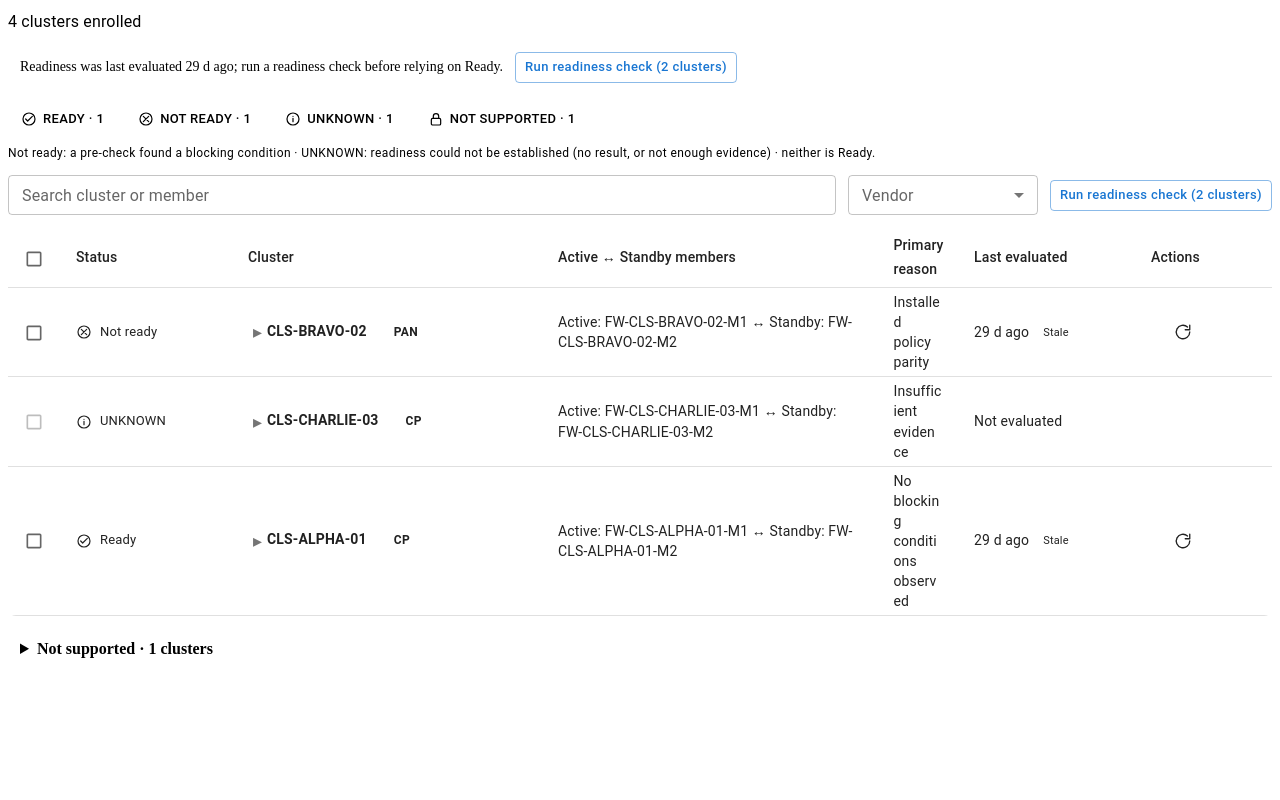
Test case: collapses unsupported vendors with no run actions and opens them via their filter
Click the button with aria-label "Not supported: 1 units": coordinates (502, 119) [415,103,588,136]
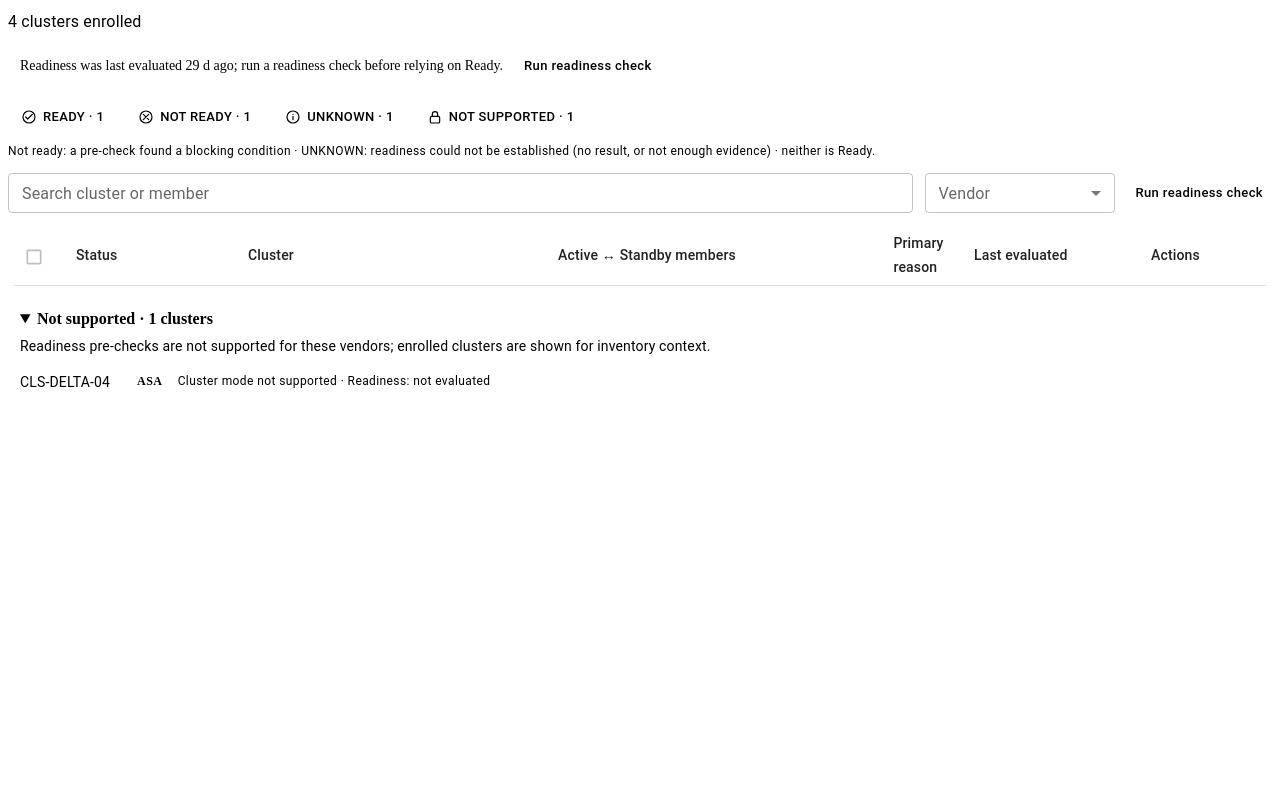
Expected: the text "CLS-DELTA-04" is shown, [20,372,110,392]
